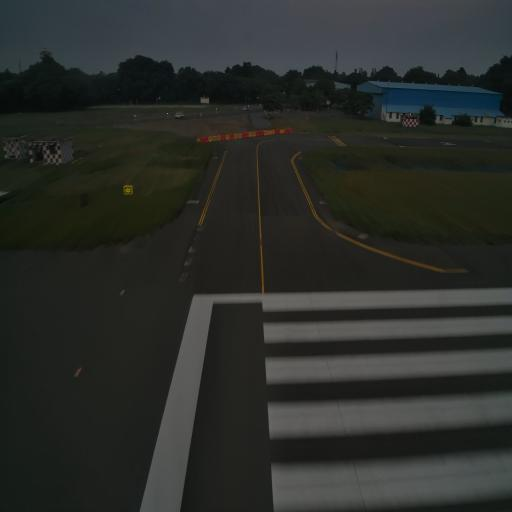on: (72, 362, 85, 378), (118, 287, 127, 298)
